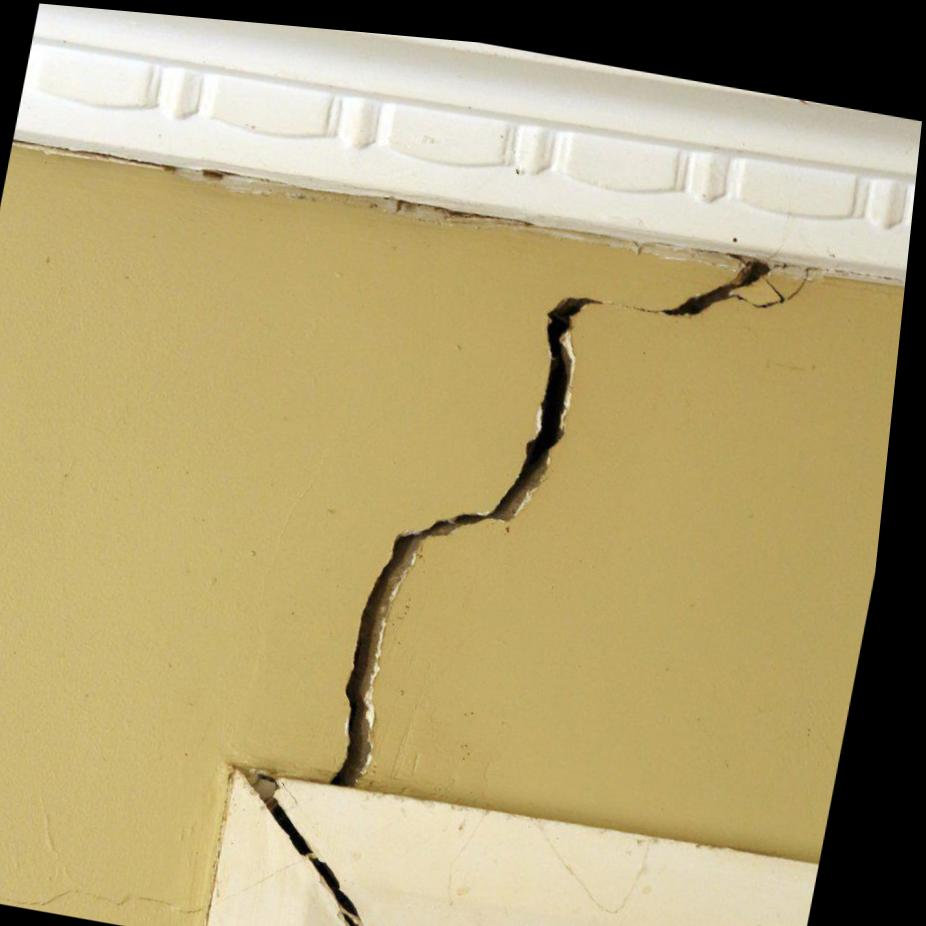crack: (263, 239, 823, 926)
